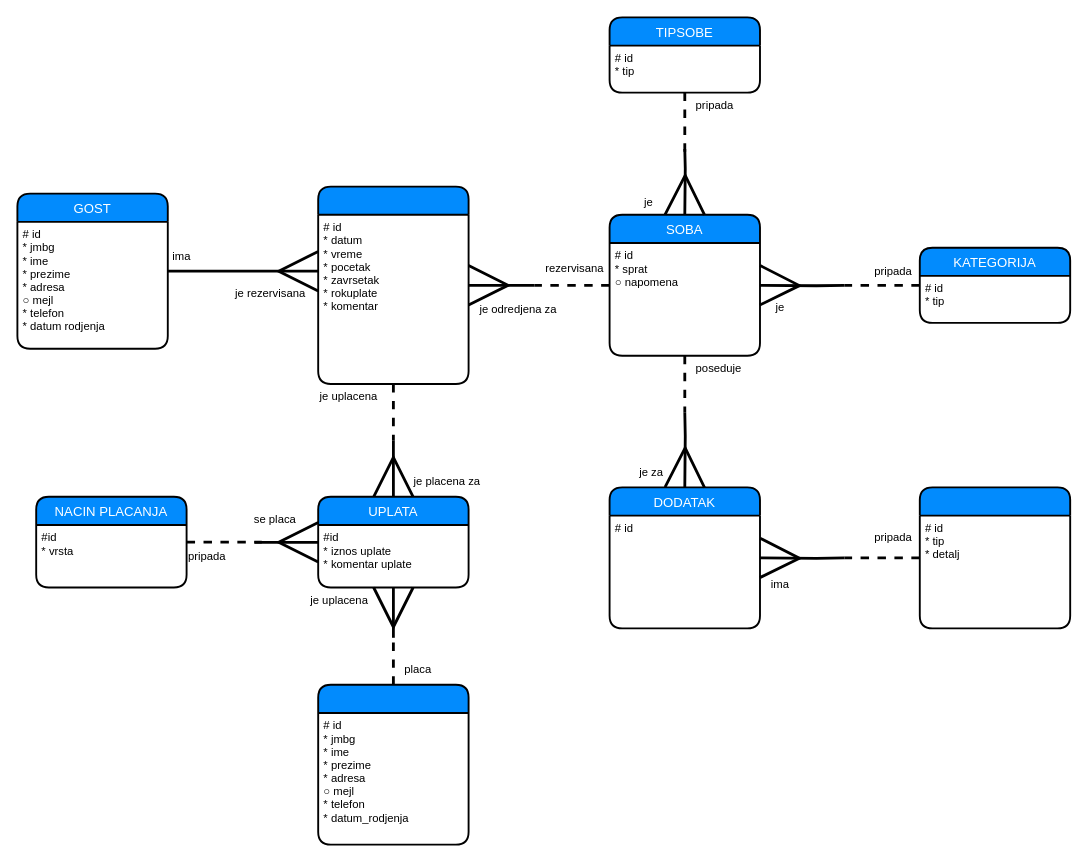
The diagram is 1087 pixels wide and 861 high, and some of its shapes have lost their labels. Each missing label, with the box of its shape:
MUSTERIJA: (317, 683, 469, 845)
POGODNOST: (918, 486, 1071, 629)
REZERVACIJA: (317, 185, 469, 384)
